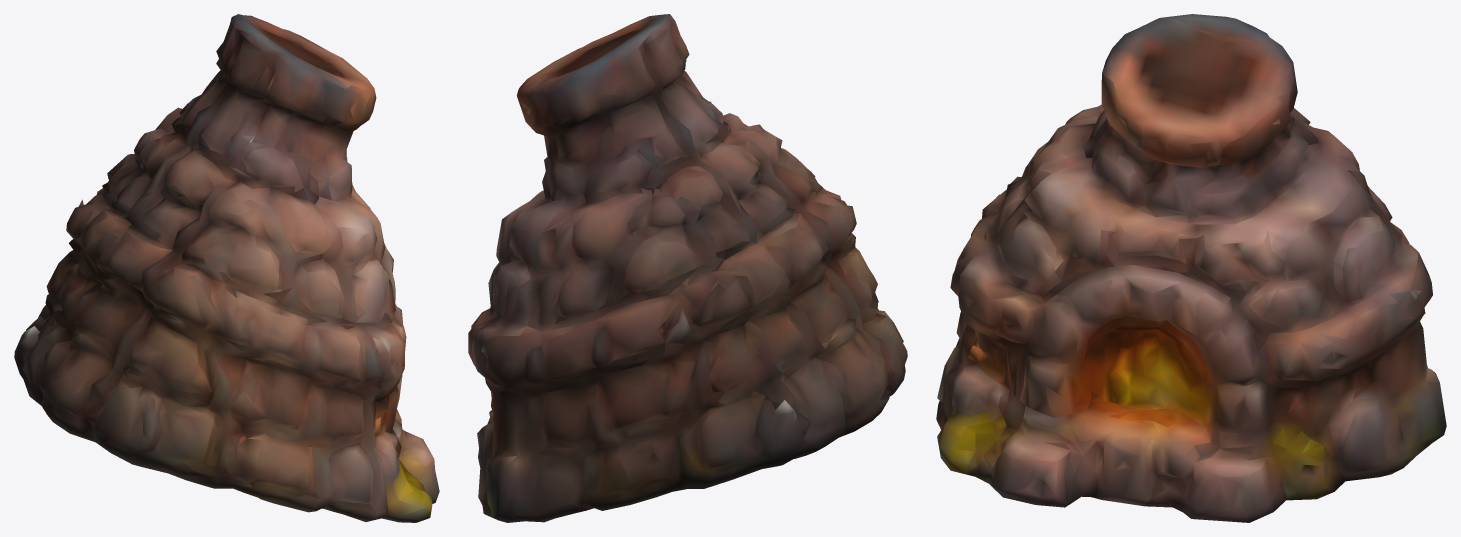
File: smelter.glb
The picture shows the model from 3 angles, left to right: view 1: azimuth 30°, elevation 25°; view 2: azimuth 150°, elevation 25°; view 3: azimuth 270°, elevation 25°; orthographic projection. The views are drawn at different scales.
Visible parts, largest first — view 1: model; view 2: model; view 3: model.
Part boxes in pixels (left/top/right/bottom): model: left=14, top=14, right=439, bottom=522; model: left=468, top=14, right=907, bottom=522; model: left=936, top=14, right=1446, bottom=522.
Bounding box in the file's own units: 1.29 × 1.55 × 1.6.
1 material, 1 textured.
